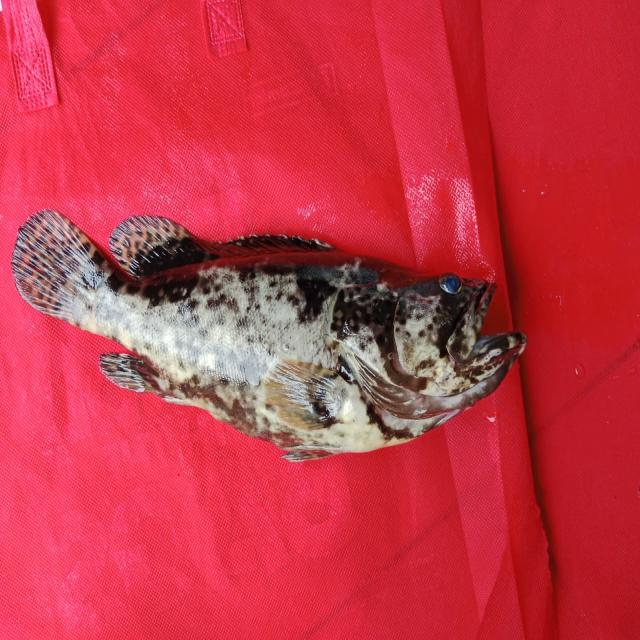ikan: (13, 163, 544, 472)
